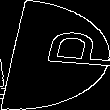P_W: (6, 33, 104, 77)
